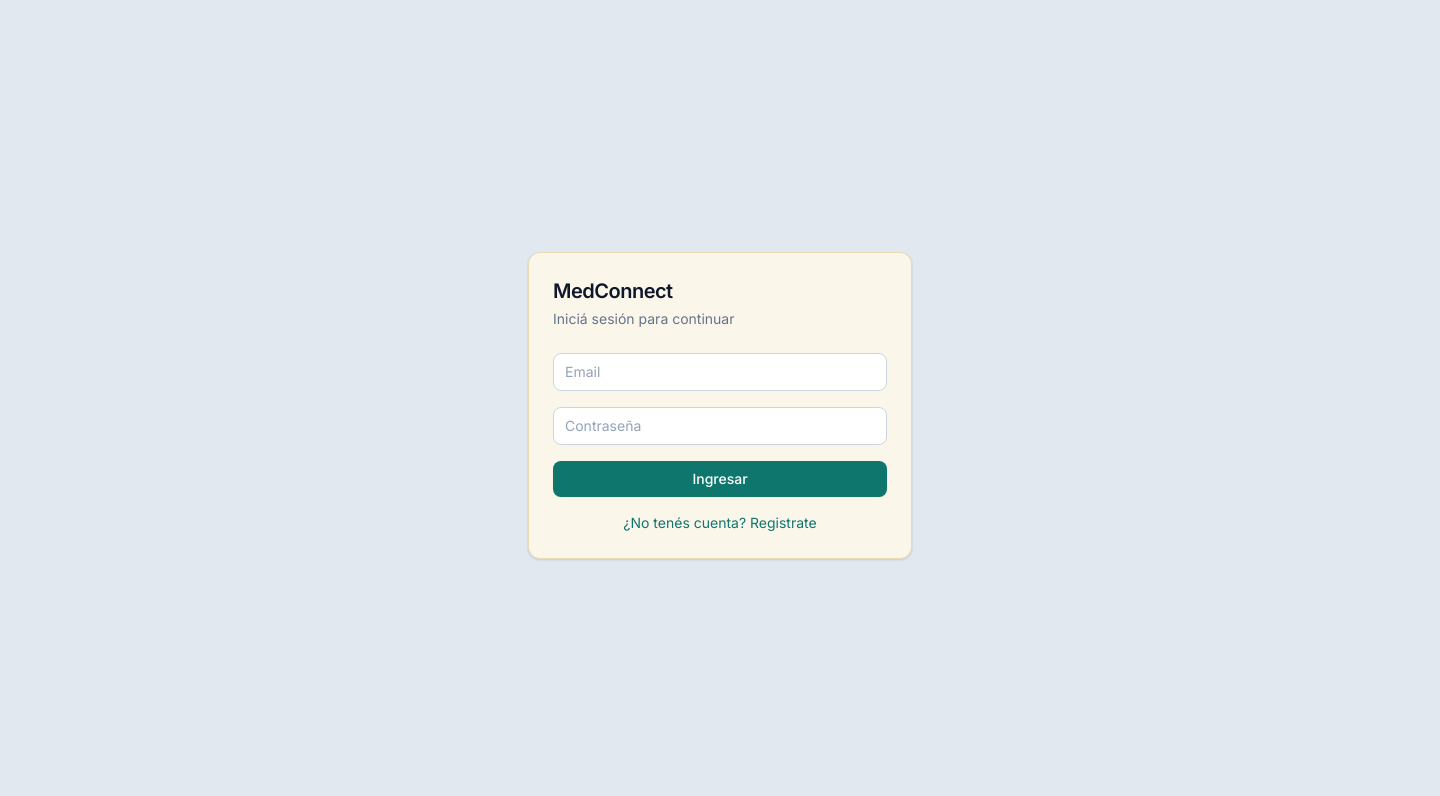
Test case: LoginScreen › loguea correctamente y muestra la app principal segun el rol
Type "admin@medconnect.com" into the field labelled "Email" at (720, 372), box x1=553 y1=352 x2=887 y2=390
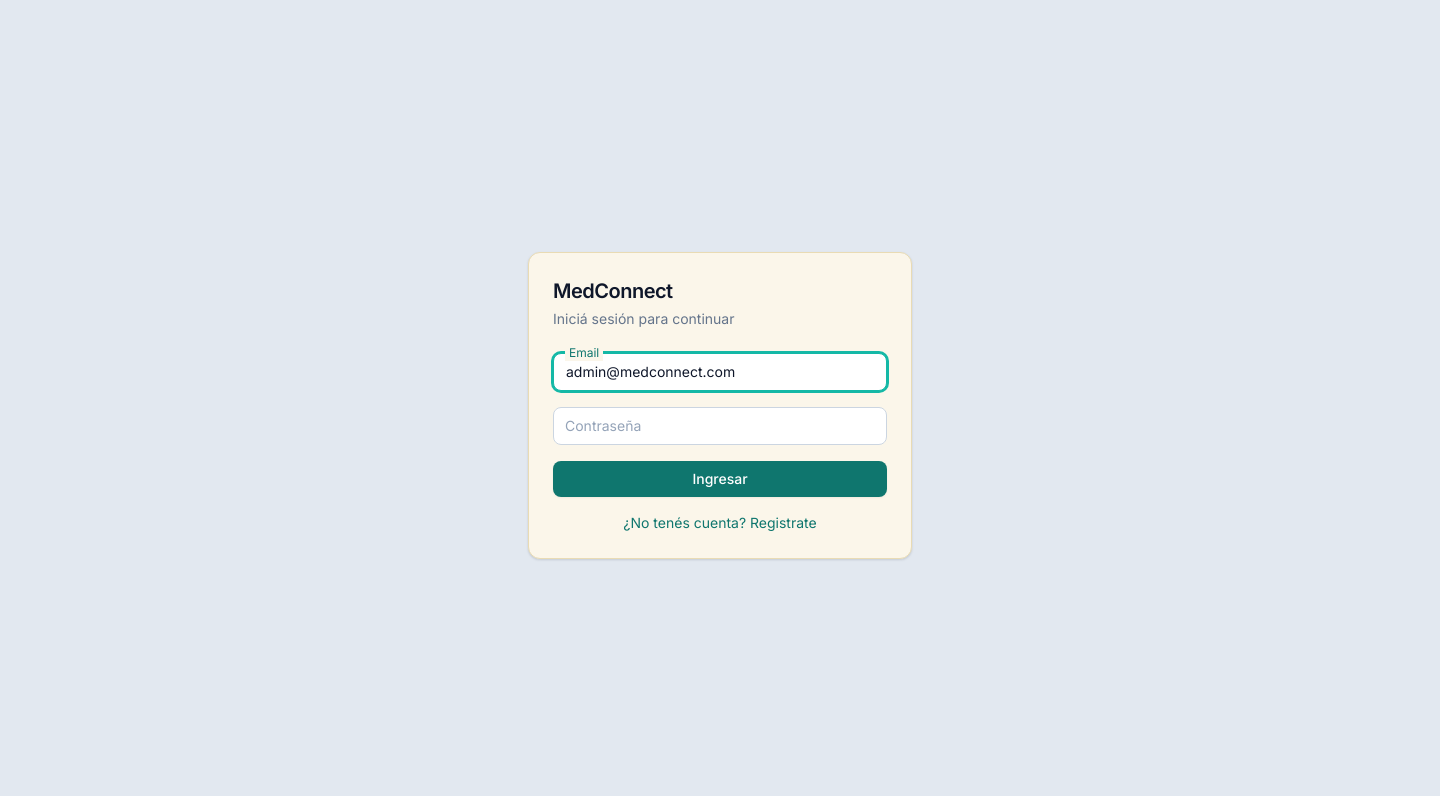
Type "secreto123" into the password field labelled "Contraseña" at (720, 426), box x1=553 y1=406 x2=887 y2=444
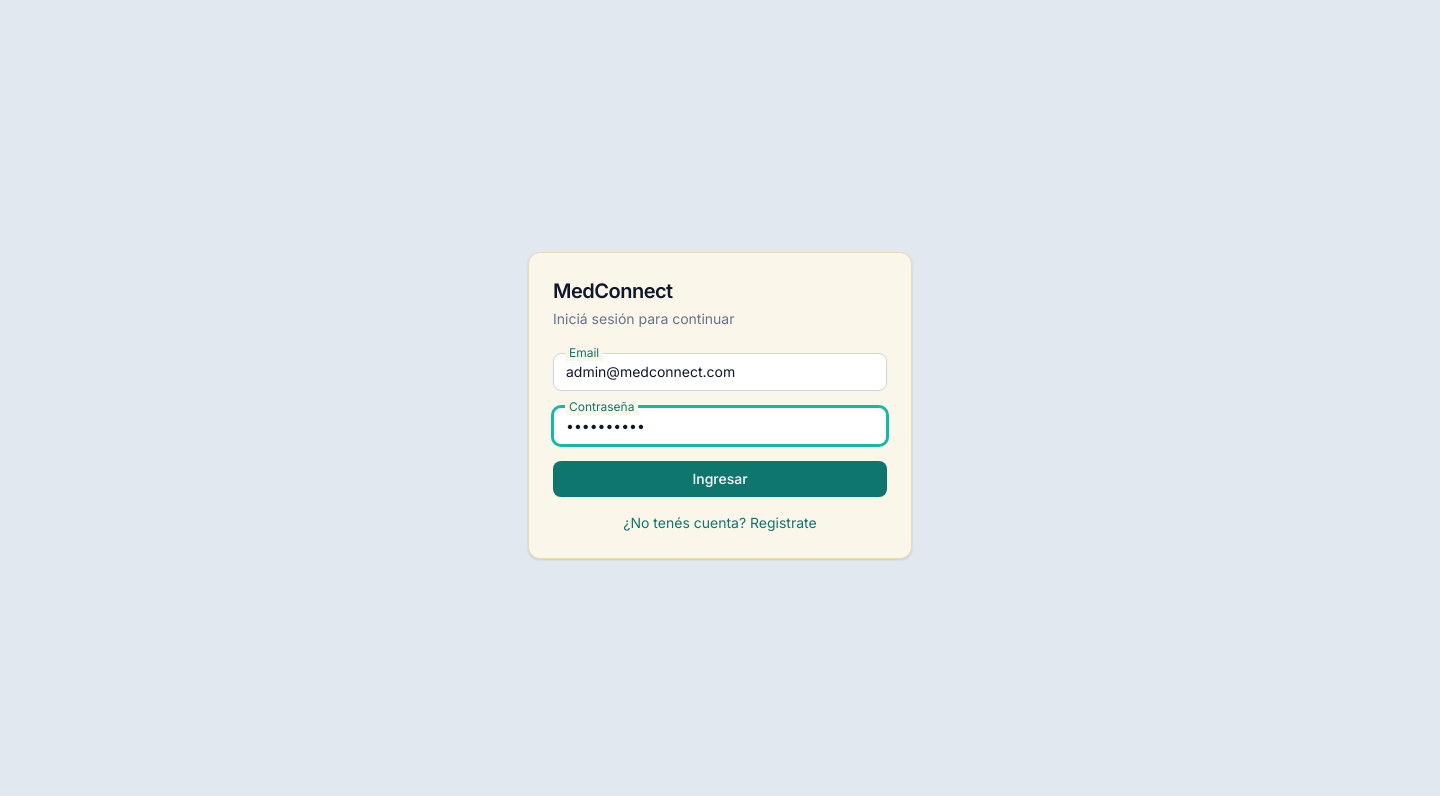
Click the button "Ingresar" at (720, 478), box x1=553 y1=460 x2=887 y2=496
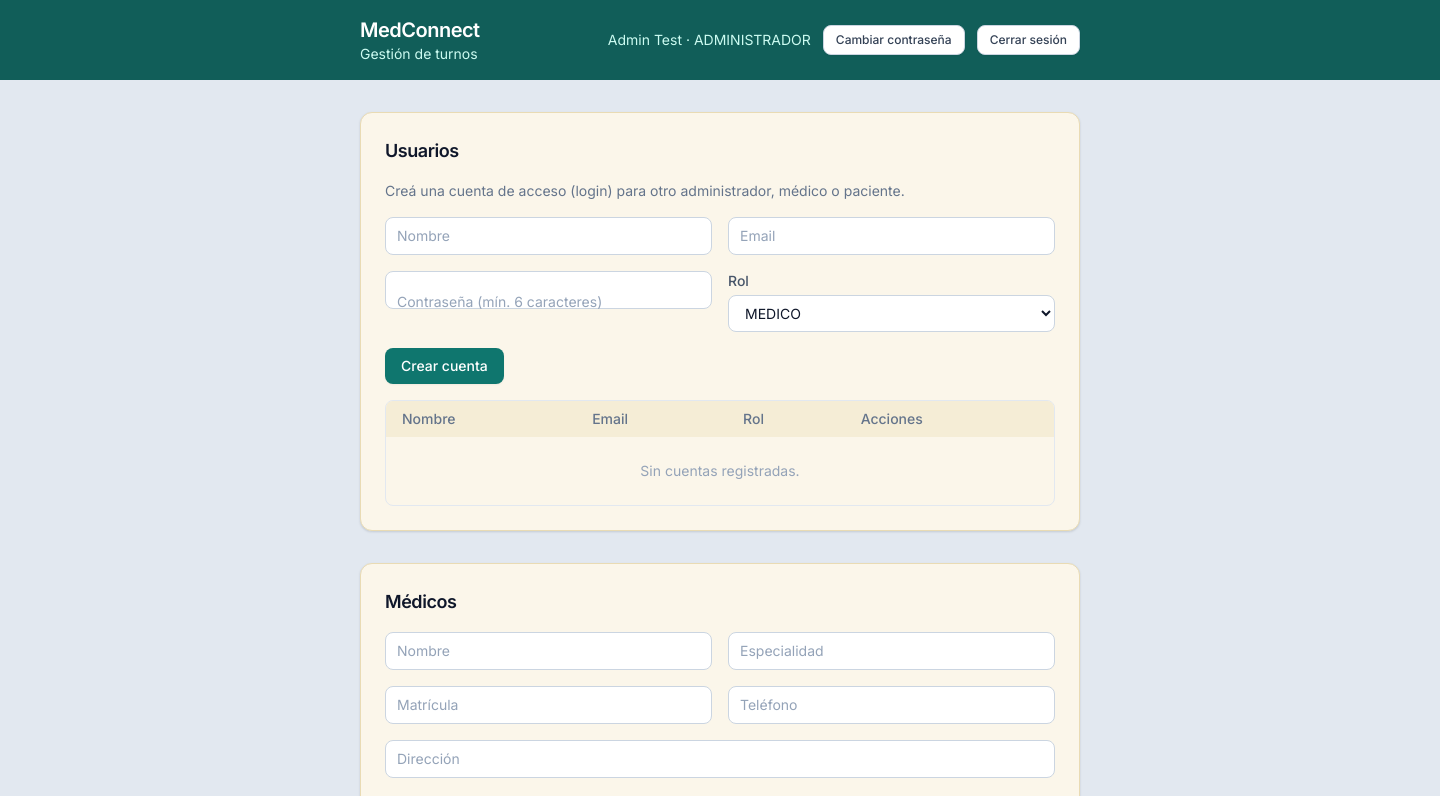
Check: the heading "Usuarios" is shown, box x1=385 y1=140 x2=459 y2=161
